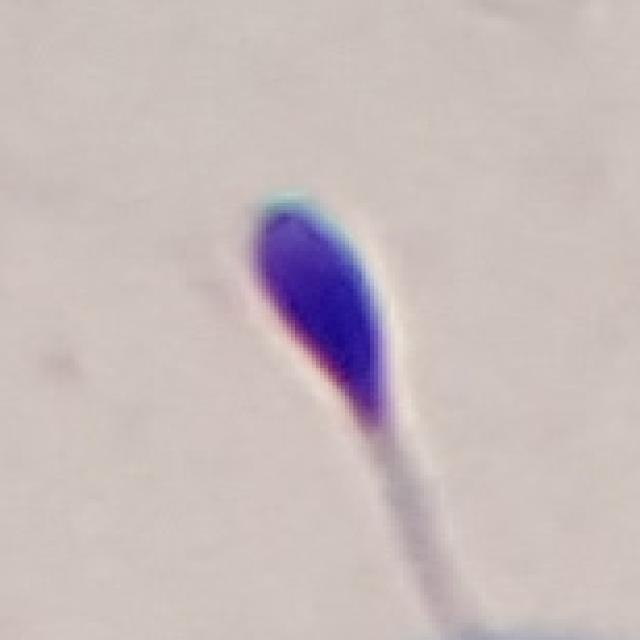abnormal sperm: (222, 176, 503, 604)
